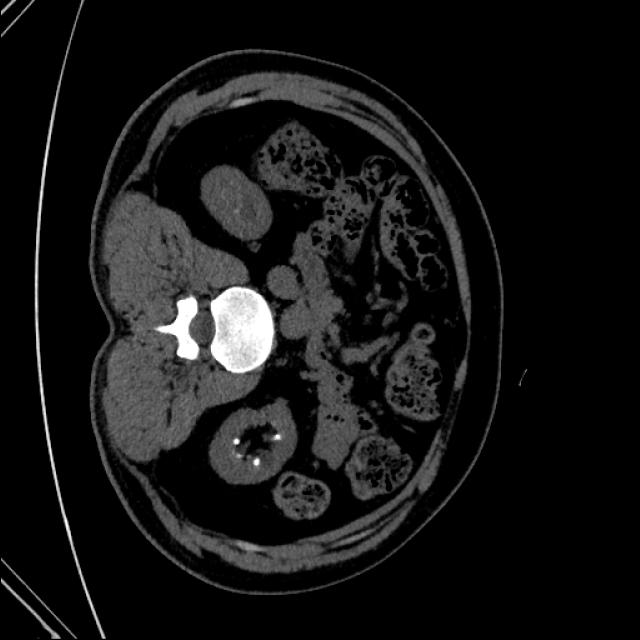kidneystone: (264, 426, 281, 441), (251, 458, 259, 466), (231, 436, 239, 443)
